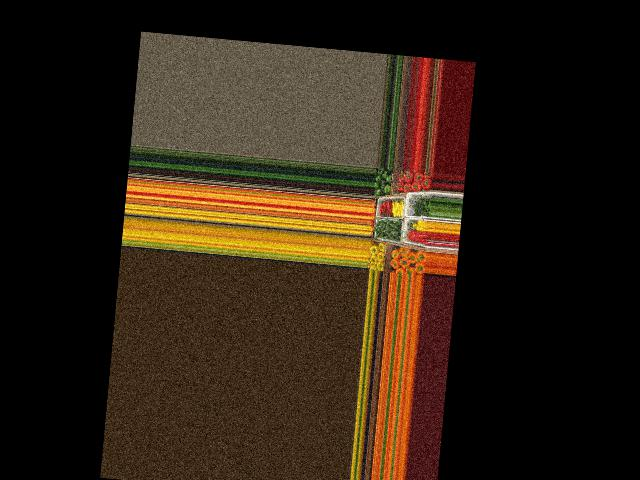bell_pepper: (382, 173, 394, 184)
